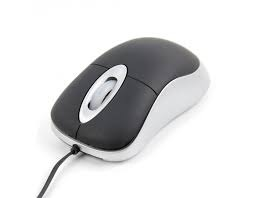mouse: (52, 36, 208, 162)
